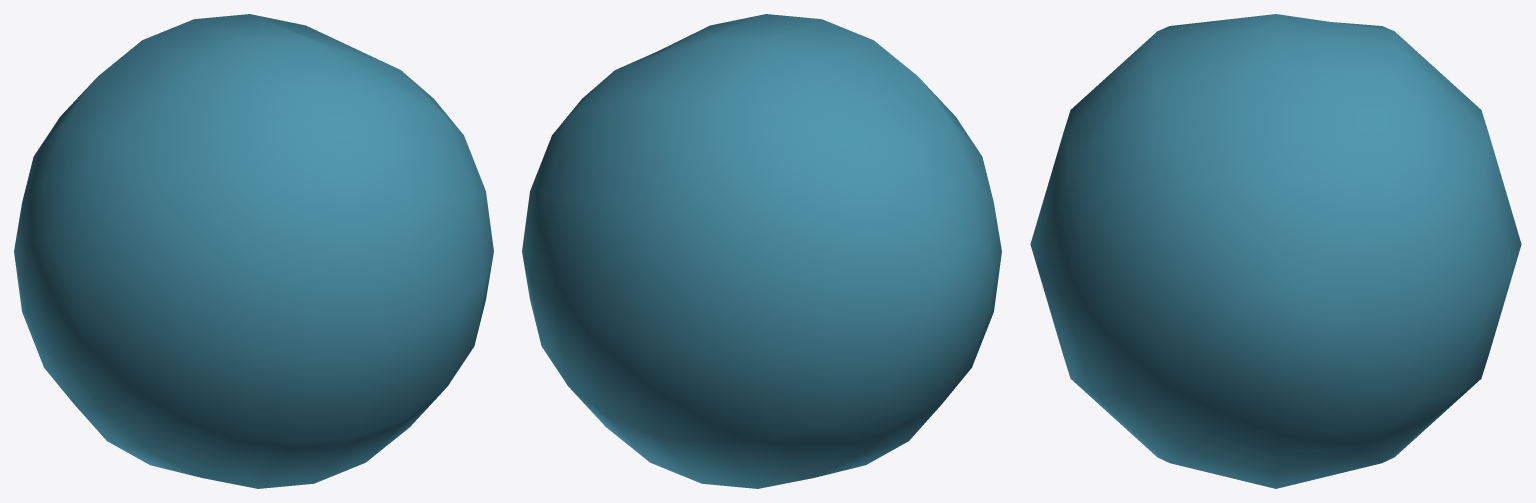
File: Earth.fbx
The picture shows the model from 3 angles, left to right: view 1: azimuth 30°, elevation 25°; view 2: azimuth 150°, elevation 25°; view 3: azimuth 270°, elevation 25°; orthographic projection. The views are drawn at different scales.
Visible parts, largest first — view 1: Earth; view 2: Earth; view 3: Earth.
Boxes of the visible parts, x1,y1,x2,y2 form: Earth: (14, 14, 493, 488); Earth: (522, 14, 1001, 488); Earth: (1030, 14, 1521, 488).
Size of the model in its own units: 84.63 by 82.65 by 84.63.
